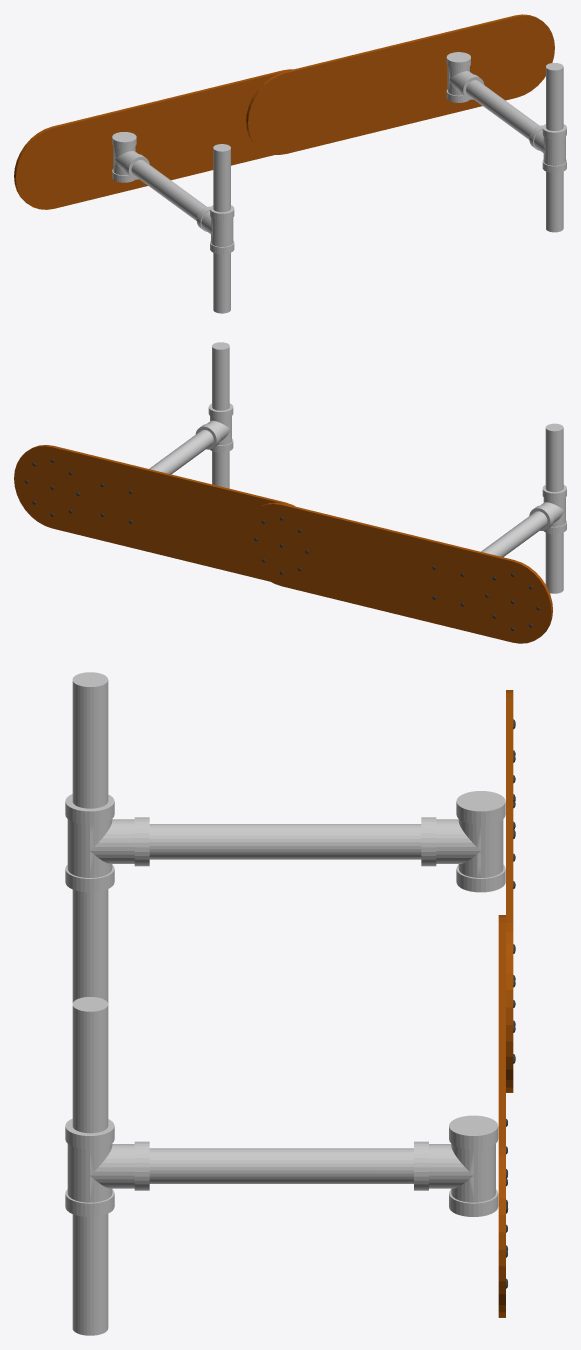
File: path.obj
The picture shows the model from 3 angles, top to bottom: view 1: azimuth 30°, elevation 25°; view 2: azimuth 150°, elevation 25°; view 3: azimuth 270°, elevation 25°; orthographic projection. The views are drawn at different scales.
Parts seen in each view (by area): view 1: Circle.001_Circle.003, Circle, Cylinder.004_Cylinder.005, Cylinder.007_Cylinder.014, Cylinder.001_Cylinder.002, Cylinder.005_Cylinder.009, Cylinder.002_Cylinder.003, Cylinder.006_Cylinder.010, Cylinder.003_Cylinder.008, Cylinder; view 2: Circle, Circle.001_Circle.003, Cylinder.004_Cylinder.005, Cylinder.007_Cylinder.014, Cylinder.001_Cylinder.002, Cylinder.005_Cylinder.009, Cylinder.006_Cylinder.010, Cylinder.002_Cylinder.003; view 3: Cylinder.001_Cylinder.002, Cylinder.005_Cylinder.009, Cylinder.007_Cylinder.014, Cylinder.004_Cylinder.005, Cylinder, Cylinder.003_Cylinder.008, Cylinder.002_Cylinder.003, Cylinder.006_Cylinder.010, Circle, Circle.001_Circle.003.
Part boxes in pixels (x1,y1,x2,y2): Circle.001_Circle.003: (246, 14, 554, 154); Circle: (14, 69, 292, 209); Cylinder.004_Cylinder.005: (213, 144, 230, 313); Cylinder.007_Cylinder.014: (546, 63, 563, 232); Cylinder.001_Cylinder.002: (131, 160, 206, 220); Cylinder.005_Cylinder.009: (466, 80, 539, 139); Cylinder.002_Cylinder.003: (196, 205, 234, 254); Cylinder.006_Cylinder.010: (529, 124, 566, 172); Cylinder.003_Cylinder.008: (446, 52, 484, 102); Cylinder: (112, 132, 149, 182); Circle: (243, 502, 552, 643); Circle.001_Circle.003: (14, 445, 295, 581); Cylinder.004_Cylinder.005: (545, 423, 563, 593); Cylinder.007_Cylinder.014: (212, 342, 229, 488); Cylinder.001_Cylinder.002: (481, 511, 547, 557); Cylinder.005_Cylinder.009: (149, 430, 213, 474); Cylinder.006_Cylinder.010: (195, 403, 233, 452); Cylinder.002_Cylinder.003: (529, 485, 566, 533); Cylinder.001_Cylinder.002: (149, 824, 421, 859); Cylinder.005_Cylinder.009: (149, 1148, 413, 1183); Cylinder.007_Cylinder.014: (72, 997, 108, 1335); Cylinder.004_Cylinder.005: (72, 672, 108, 1003); Cylinder: (421, 791, 505, 892); Cylinder.003_Cylinder.008: (414, 1115, 498, 1216); Cylinder.002_Cylinder.003: (65, 794, 149, 892); Cylinder.006_Cylinder.010: (65, 1118, 149, 1216); Circle: (506, 690, 513, 1092); Circle.001_Circle.003: (498, 915, 505, 1317).
Bounding box in the file's own units: 0.529 × 0.1524 × 0.1919.
Materials: 3 (1 with a texture image).
